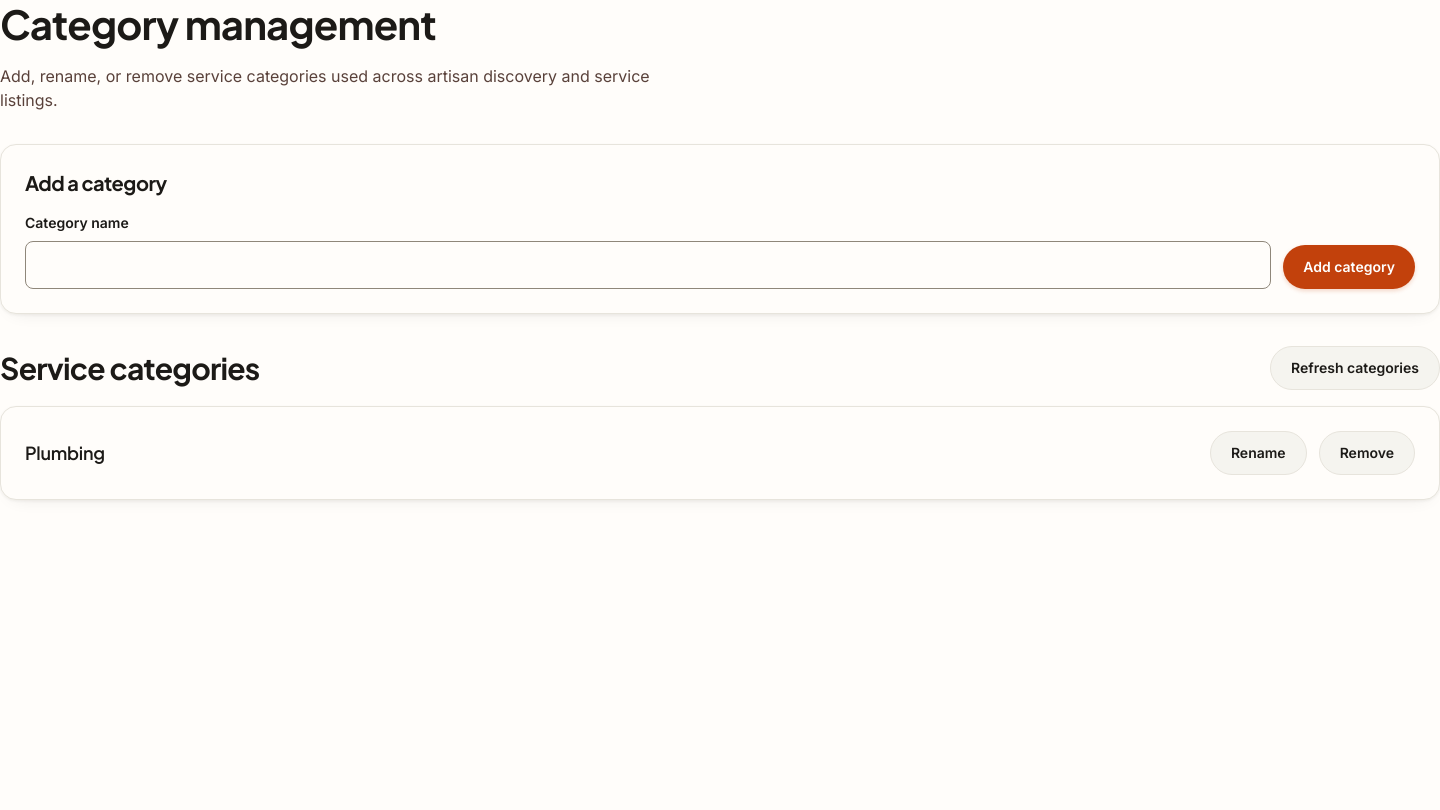
creates categories and confirms service reference protection on deletion
This screenshot has width=1440, height=810.
Expected: the button "Add category" is enabled, [1283,245,1415,289]
In the field labelled "Category name": x=648, y=265 [25,241,1271,289], type "  Electrical  "
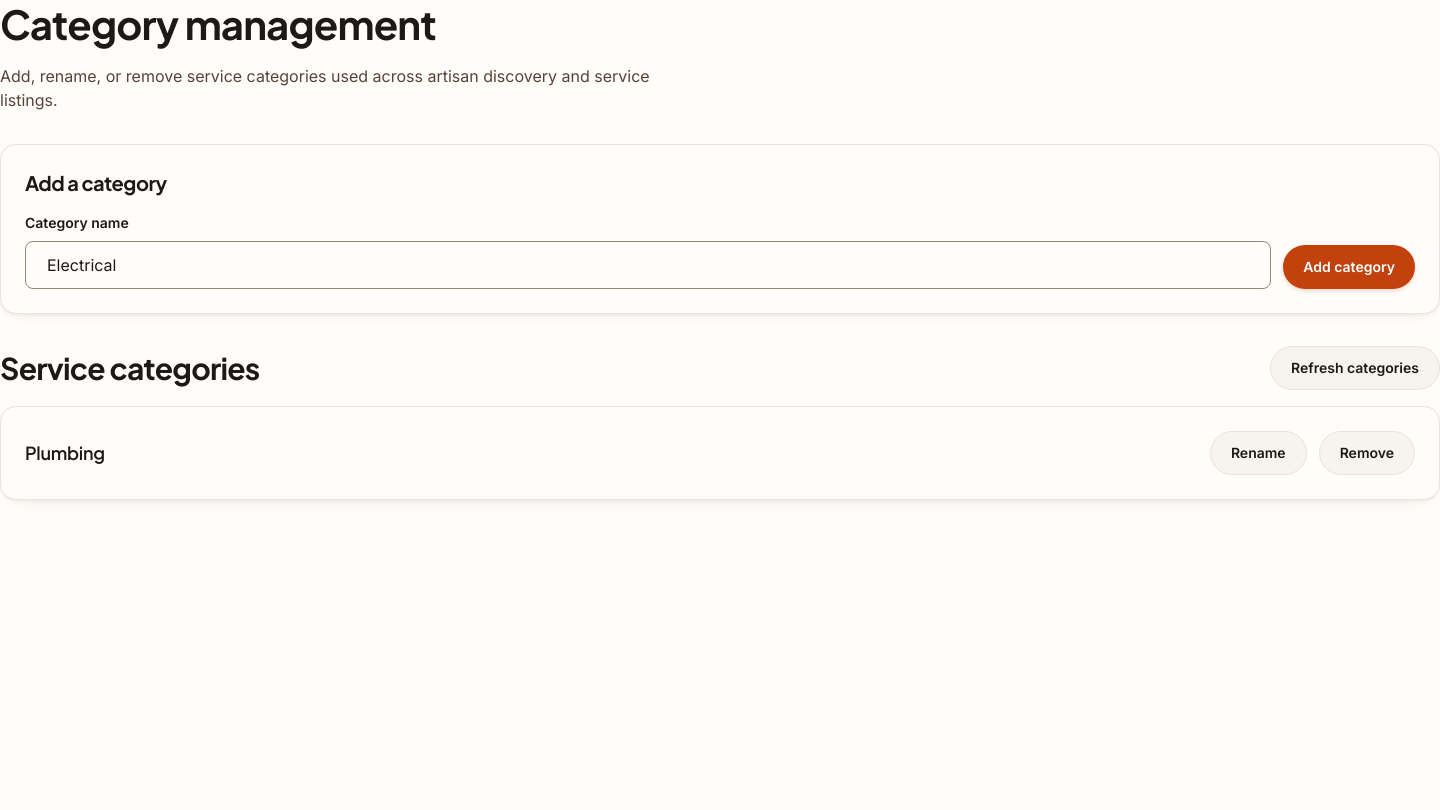
Click the button "Add category": x=1349, y=267 [1283,245,1415,289]
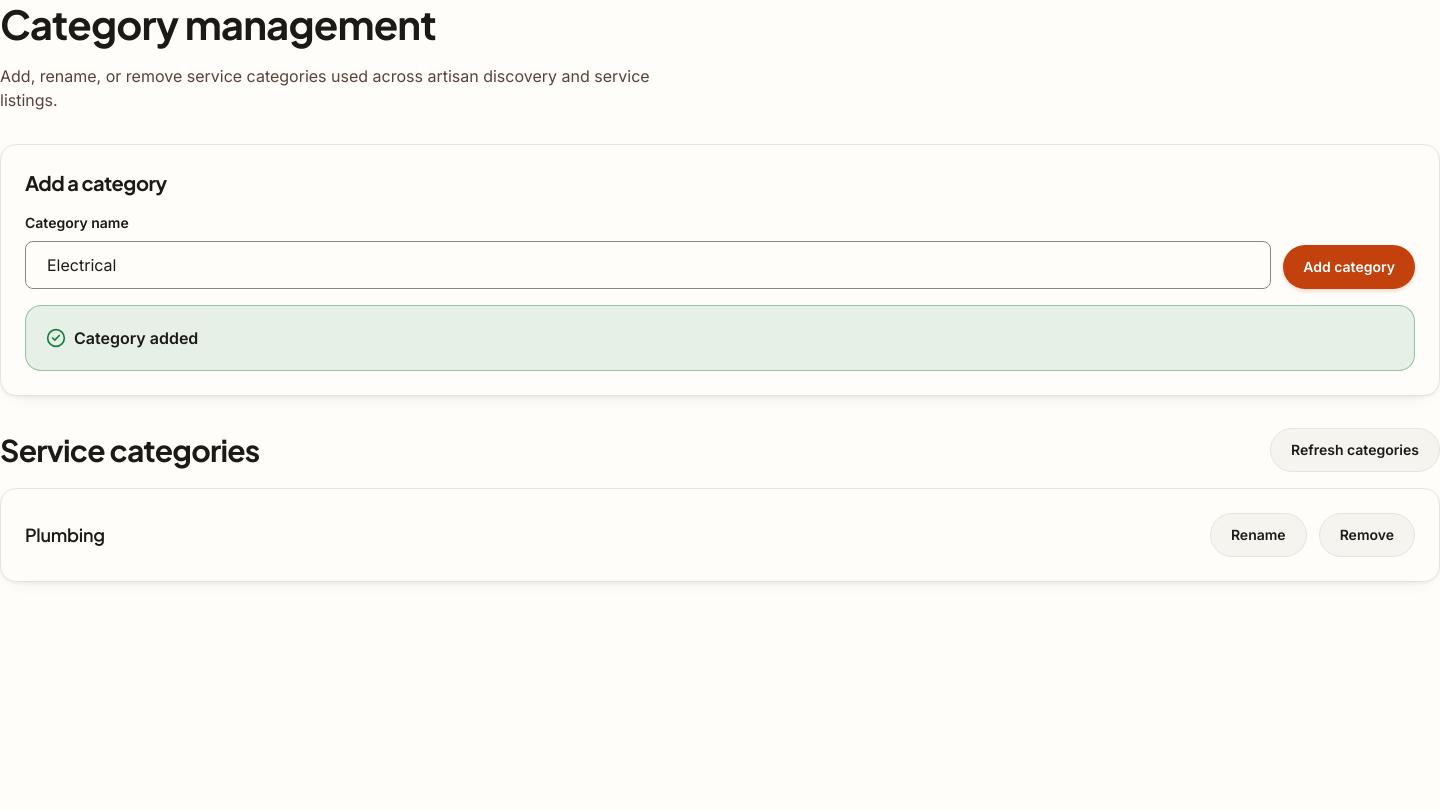
Now the text "Category added" is shown, box [46,328,198,348]
Click the button named "Remove Plumbing": x=1367, y=535 [1319,513,1415,557]
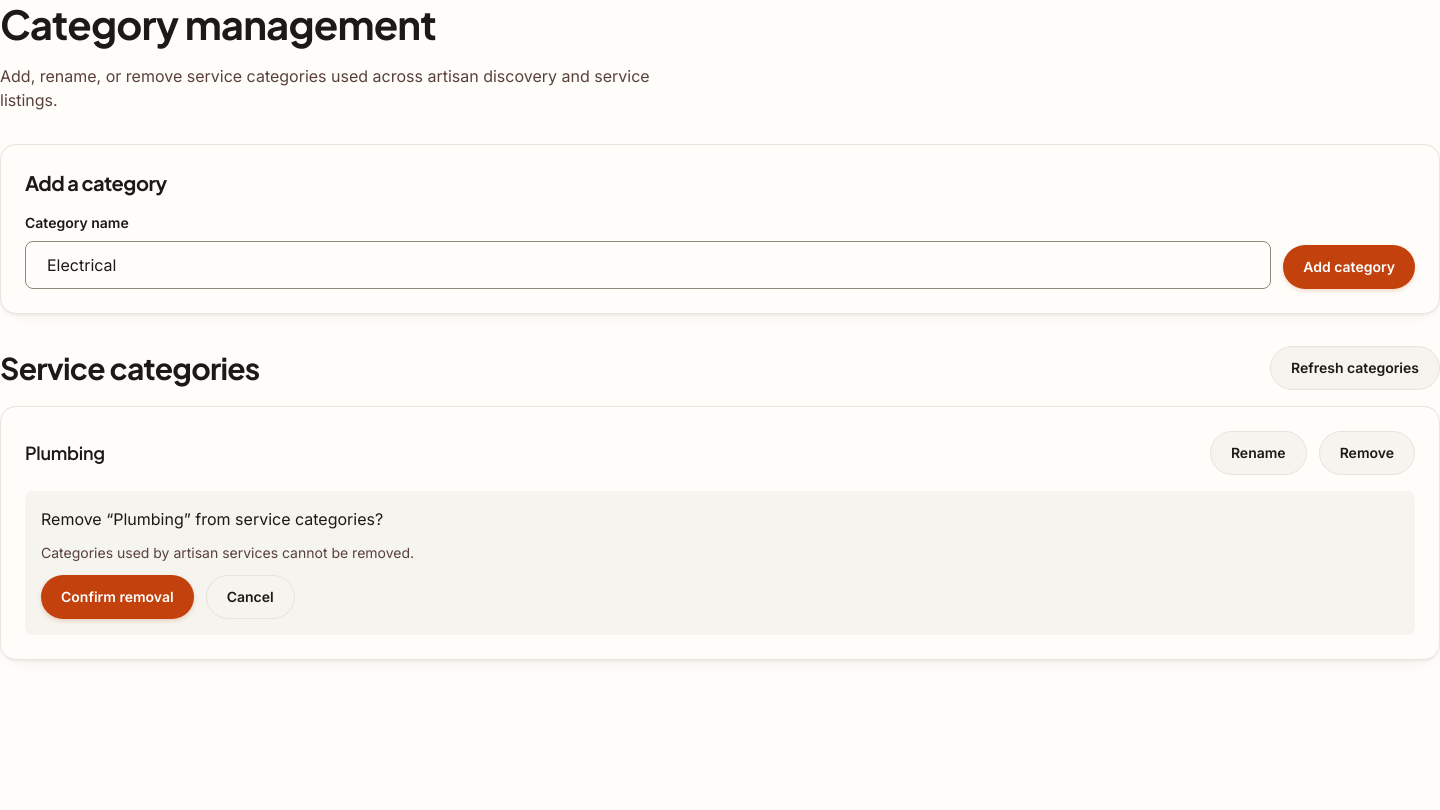
Click the button "Confirm removal": x=117, y=597 [41,575,194,619]
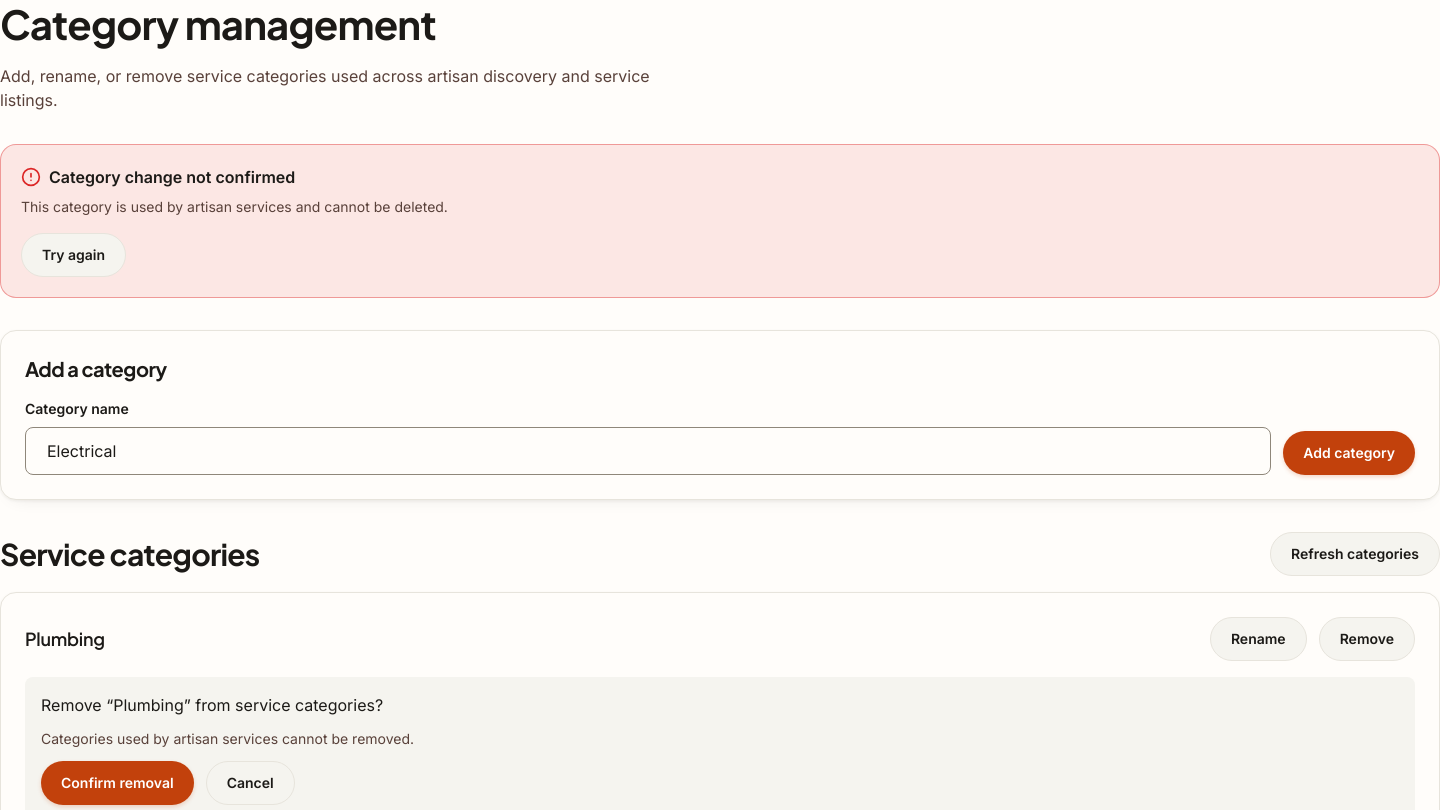
Now the text "This category is used by artisan services and cannot be deleted." is shown, box [21,198,448,215]
